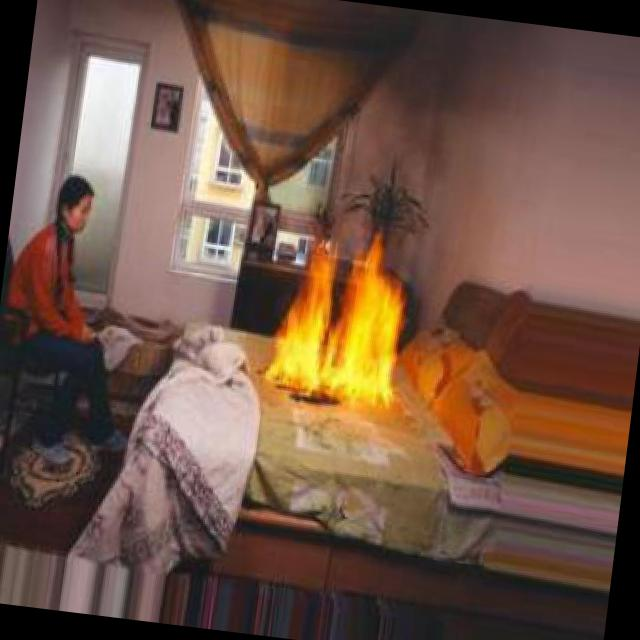Fire: (266, 217, 420, 418)
